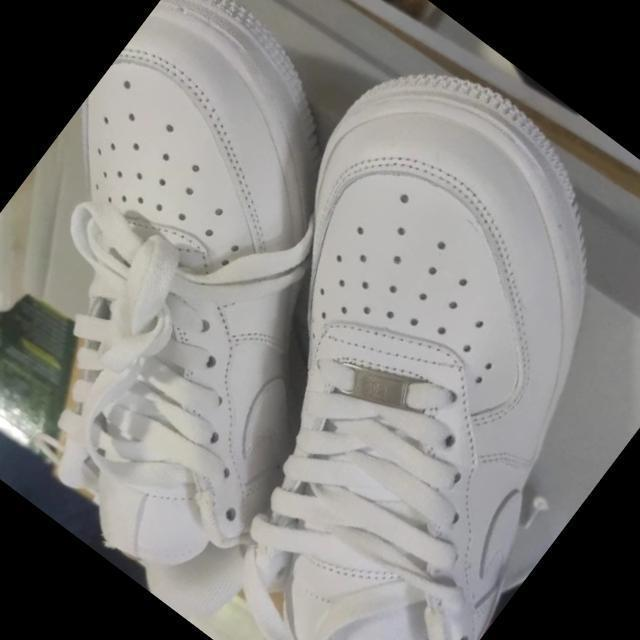nike original air force: (58, 22, 640, 640), (0, 0, 521, 636)
